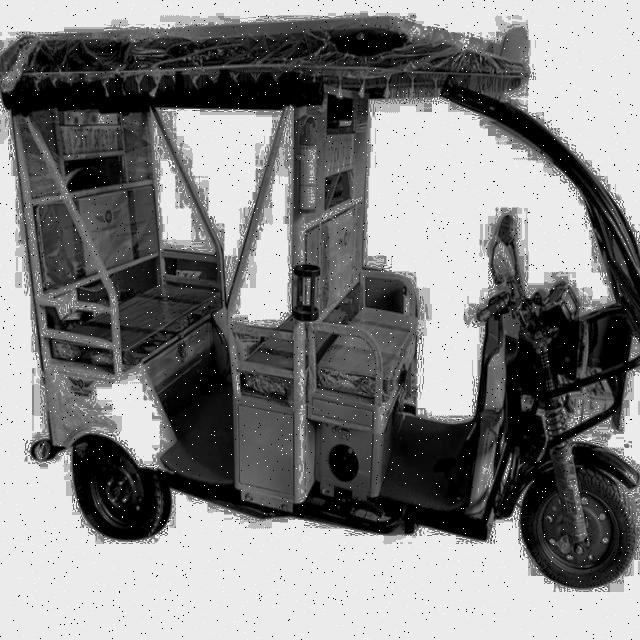Toto: (9, 14, 640, 596)
